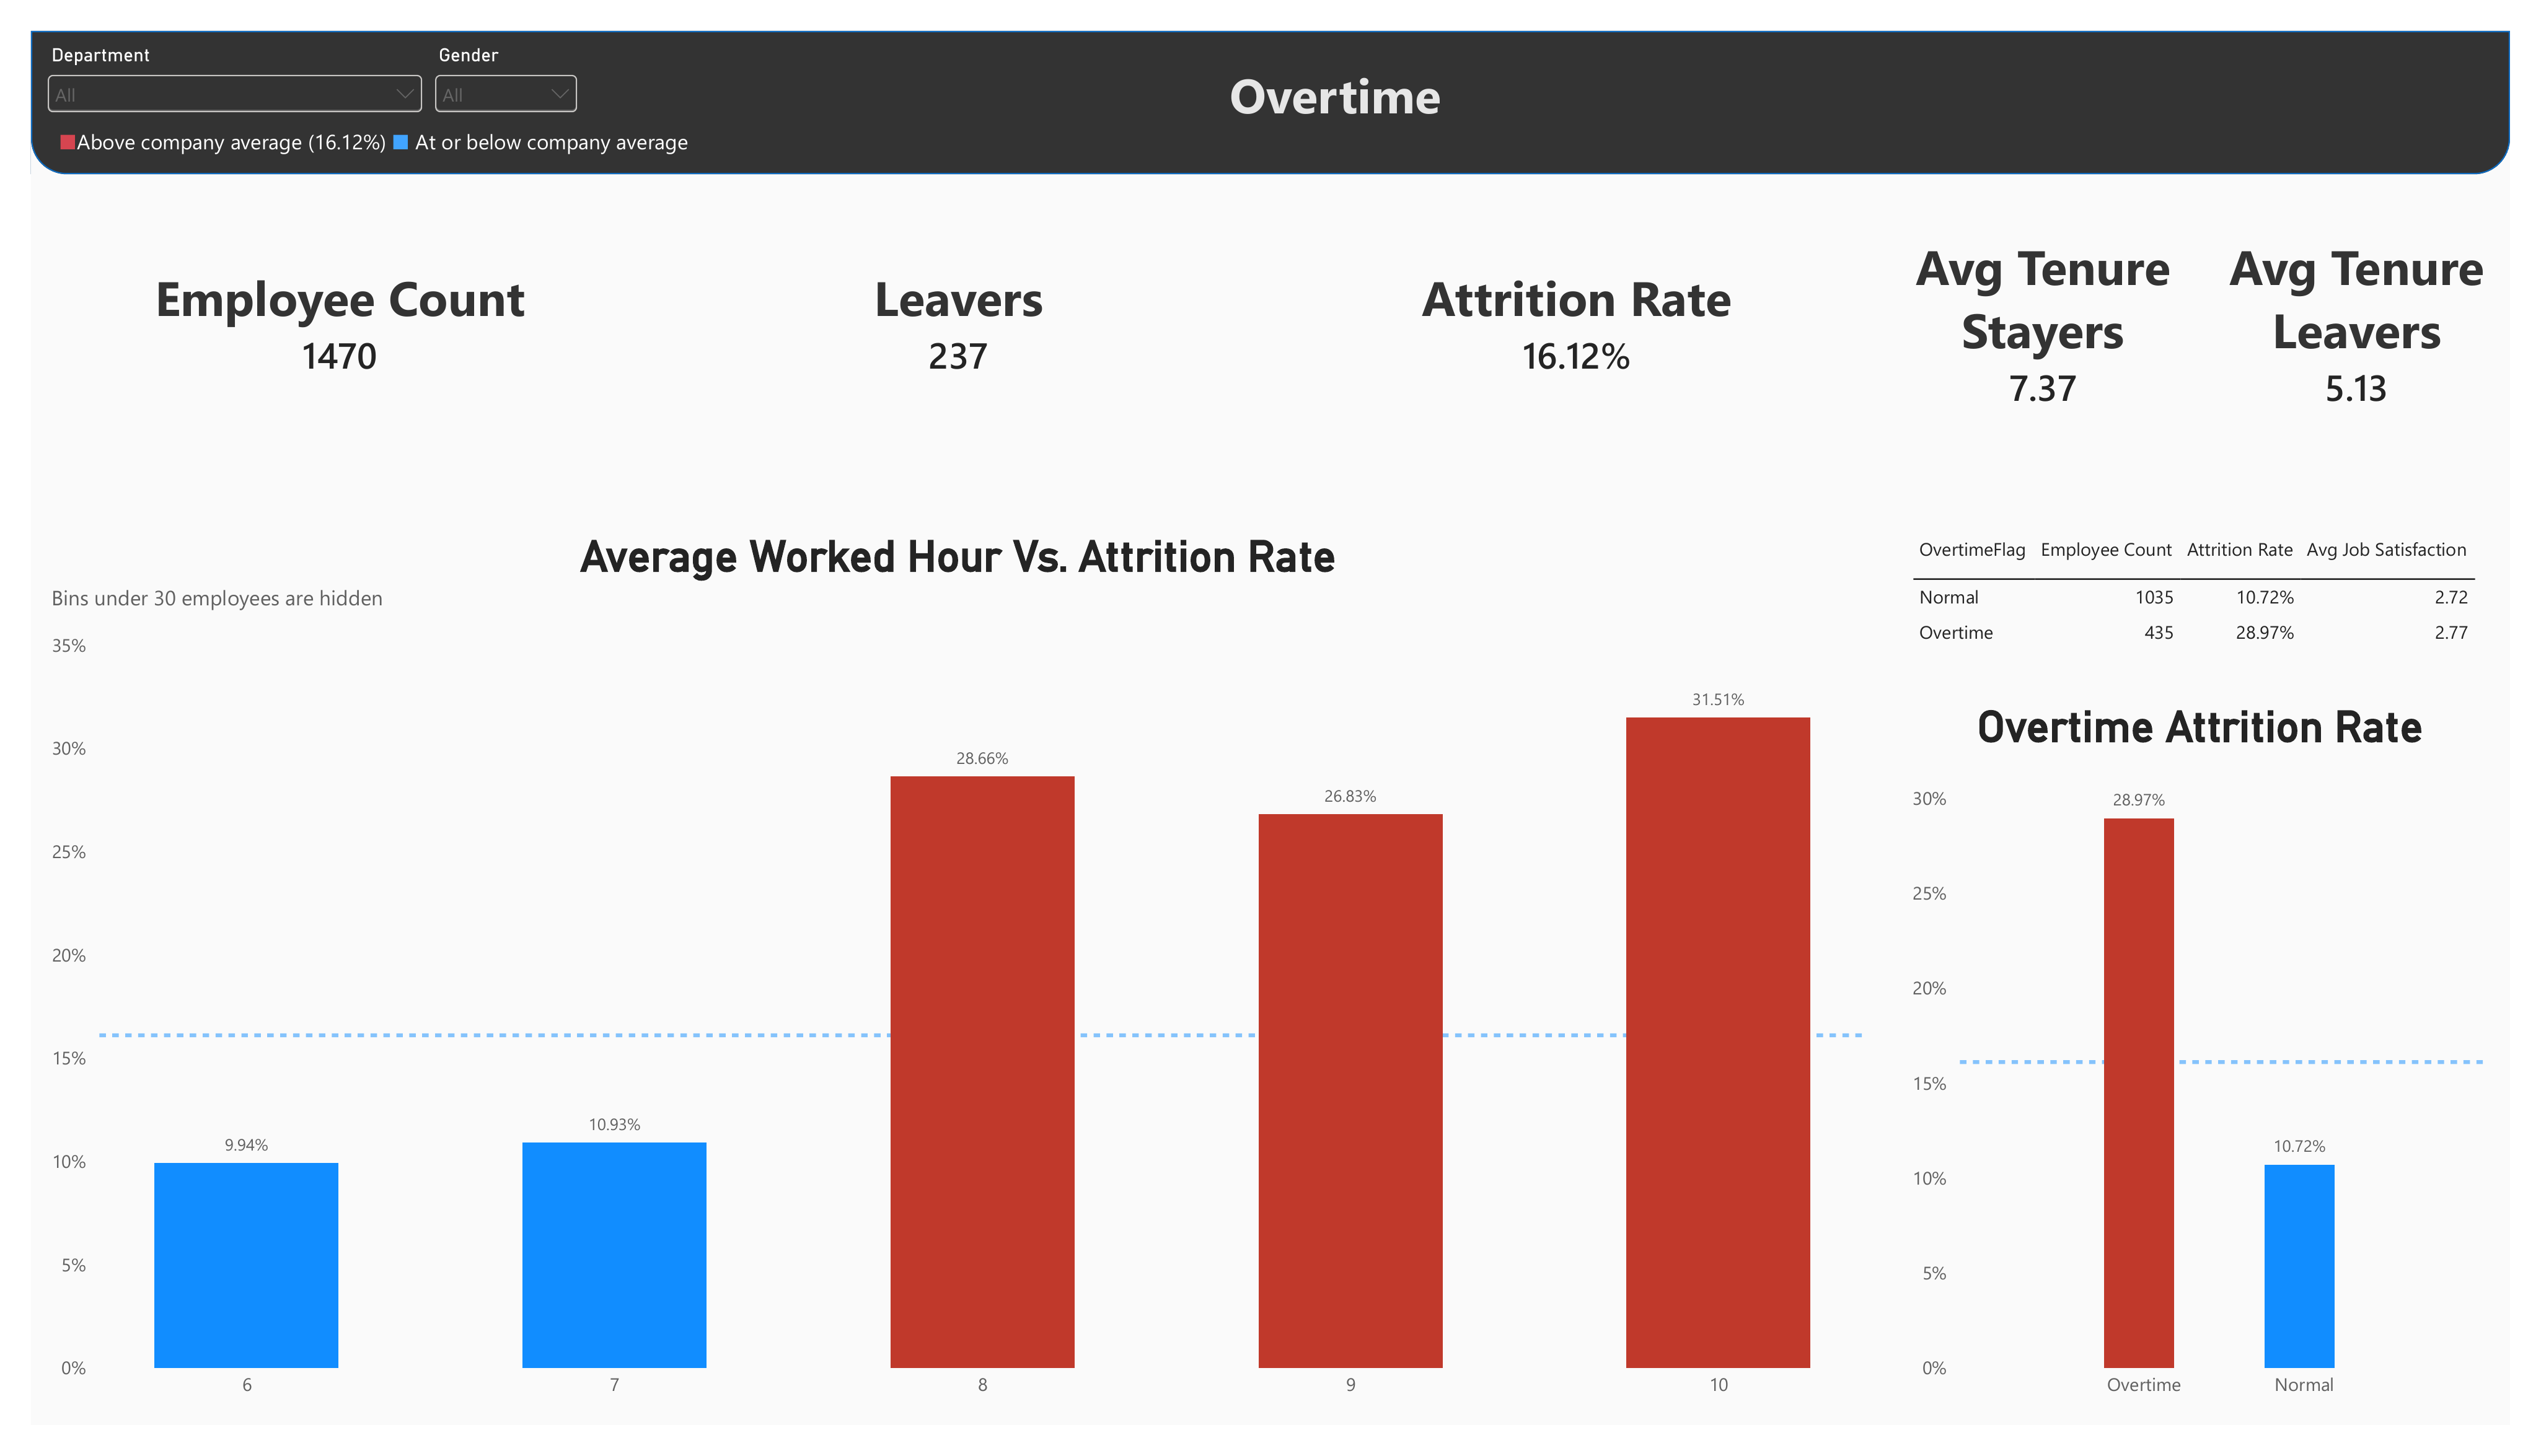

This screenshot's page, from the dashboard's own definition file:
{"tool":"powerbi","page":{"name":"Overtime","canvas":[1920,1080],"ordinal":1},"visuals":[{"type":"columnChart","title":"Overtime Attrition Rate","fields":{"Category":["attendance_summary.OvertimeFlag"],"Y":["_Measures.Attrition Rate"]},"box":[1441,505.5,479,574.2],"z":0},{"type":"tableEx","fields":{"Values":["attendance_summary.OvertimeFlag","_Measures.Employee Count","_Measures.Attrition Rate","_Measures.Avg Job Satisfaction"]},"box":[1441,374,479,131.5],"z":1000},{"type":"shape","title":"fvdf","box":[0,0,1920,110.9],"z":3000},{"type":"textbox","box":[775.5,23.6,470.2,102.1],"z":4000},{"type":"cardVisual","fields":{"Data":["_Measures.Employee Count"]},"box":[0,110.9,479,229.7],"z":5000},{"type":"cardVisual","fields":{"Data":["_Measures.Leavers"]},"box":[479,110.9,479,229.7],"z":6000},{"type":"cardVisual","fields":{"Data":["_Measures.Attrition Rate"]},"box":[958,110.9,479,229.7],"z":7000},{"type":"cardVisual","fields":{"Data":["_Measures.Avg Tenure Stayers","_Measures.Avg Tenure Leavers"]},"box":[1441,110.9,479,229.7],"z":8000},{"type":"slicer","fields":{"Values":["general_data.Department"]},"box":[7.9,10.8,300.4,63.8],"z":9000},{"type":"slicer","fields":{"Values":["general_data.Gender"]},"box":[308.2,10.8,119.8,63.8],"z":10000},{"type":"textbox","box":[21.6,74.6,499.6,39.3],"z":11000},{"type":"columnChart","title":"Average Worked Hour Vs. Attrition Rate","fields":{"Category":["attendance_summary.AverageHoursWorked (bins 1+)"],"Y":["_Measures.Attrition Rate"]},"box":[0,374,1437.1,705.8],"z":11001}]}

Visuals, with their boxes on the page's 1920x1080 design canvas (x1, y1, x2, y2). These are canvas units, not pixel positions in the 2541x1456 screenshot, which may show the page scaled, cropped or inside an application window:
"Overtime Attrition Rate" columnChart: x1=1441 y1=506 x2=1920 y2=1080
tableEx - attendance_summary.OvertimeFlag x _Measures.Employee Count: x1=1441 y1=374 x2=1920 y2=506
"fvdf" shape: x1=0 y1=0 x2=1920 y2=111
textbox: x1=776 y1=24 x2=1246 y2=126
cardVisual - _Measures.Employee Count: x1=0 y1=111 x2=479 y2=341
cardVisual - _Measures.Leavers: x1=479 y1=111 x2=958 y2=341
cardVisual - _Measures.Attrition Rate: x1=958 y1=111 x2=1437 y2=341
cardVisual - _Measures.Avg Tenure Stayers x _Measures.Avg Tenure Leavers: x1=1441 y1=111 x2=1920 y2=341
slicer - general_data.Department: x1=8 y1=11 x2=308 y2=75
slicer - general_data.Gender: x1=308 y1=11 x2=428 y2=75
textbox: x1=22 y1=75 x2=521 y2=114
"Average Worked Hour Vs. Attrition Rate" columnChart: x1=0 y1=374 x2=1437 y2=1080
